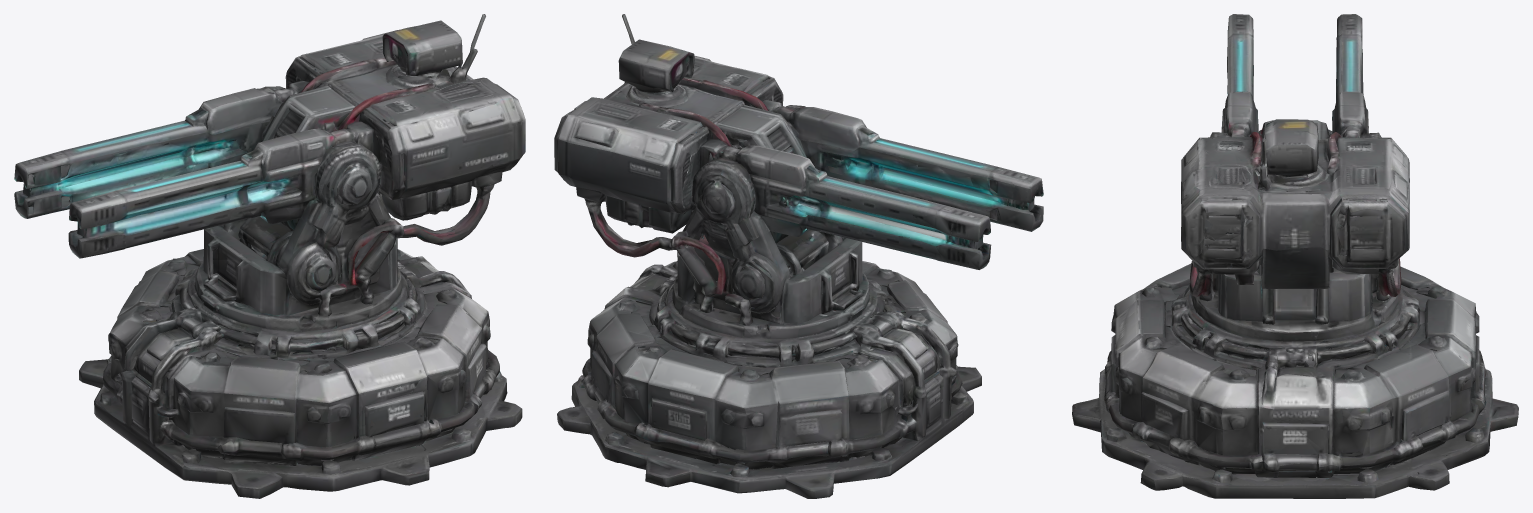
File: mod-railgun.glb
The picture shows the model from 3 angles, left to right: view 1: azimuth 30°, elevation 25°; view 2: azimuth 150°, elevation 25°; view 3: azimuth 270°, elevation 25°; orthographic projection. The views are drawn at different scales.
Parts seen in each view (by area): view 1: geometry_0; view 2: geometry_0; view 3: geometry_0.
Part boxes in pixels (left/top/right/bottom): geometry_0: left=14, top=14, right=525, bottom=498; geometry_0: left=554, top=14, right=1043, bottom=498; geometry_0: left=1072, top=14, right=1518, bottom=498.
Bounding box in the file's own units: 0.6497 × 0.5245 × 0.5876.
Materials: 1 (1 with a texture image).
